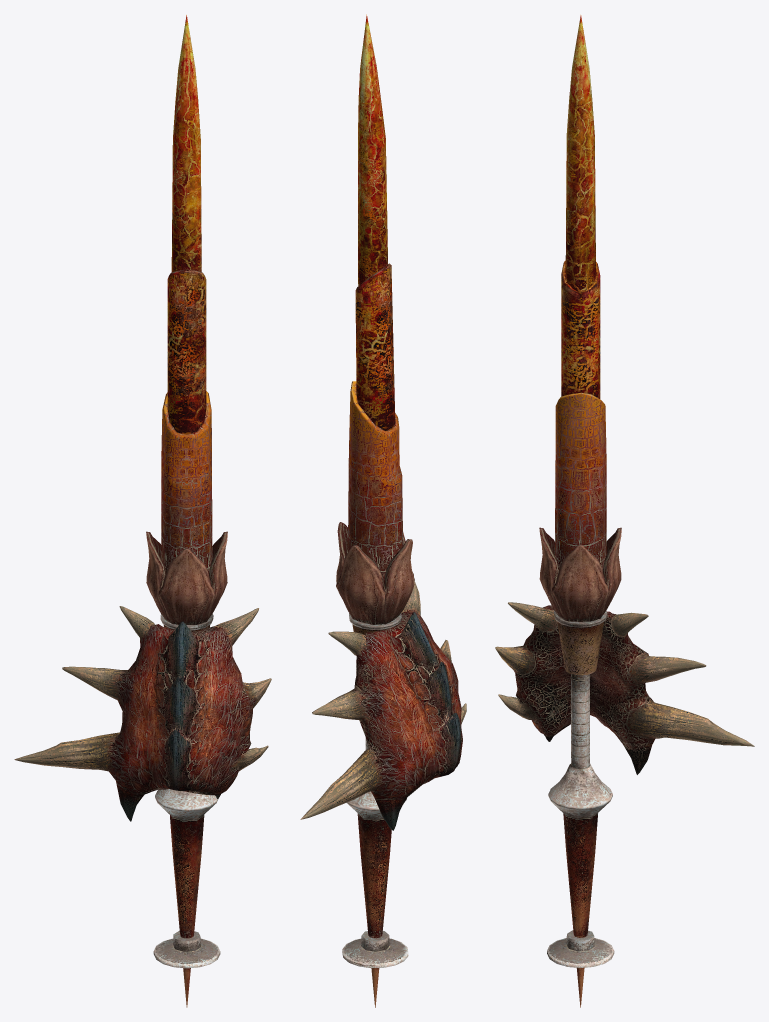
Rendered from lan001.obj.
The picture shows the model from 3 angles, left to right: view 1: azimuth 90°, elevation 25°; view 2: azimuth 150°, elevation 25°; view 3: azimuth 270°, elevation 25°; orthographic projection.
Visible parts, largest first — view 1: lan001_000_LOD_1; view 2: lan001_000_LOD_1; view 3: lan001_000_LOD_1.
Part boxes in pixels (x1=…): lan001_000_LOD_1: x1=14, y1=15, x2=271, y2=1007; lan001_000_LOD_1: x1=300, y1=14, x2=466, y2=1007; lan001_000_LOD_1: x1=495, y1=15, x2=754, y2=1007.
Bounding box in the file's own units: 54.34 × 411 × 96.81.
